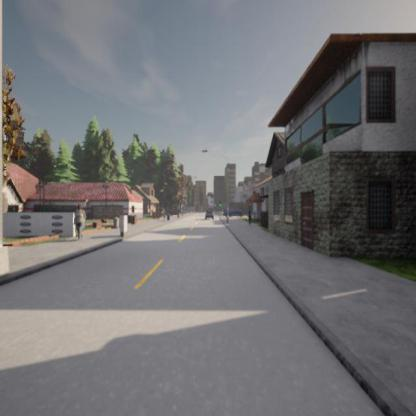person: (73, 204, 86, 241)
